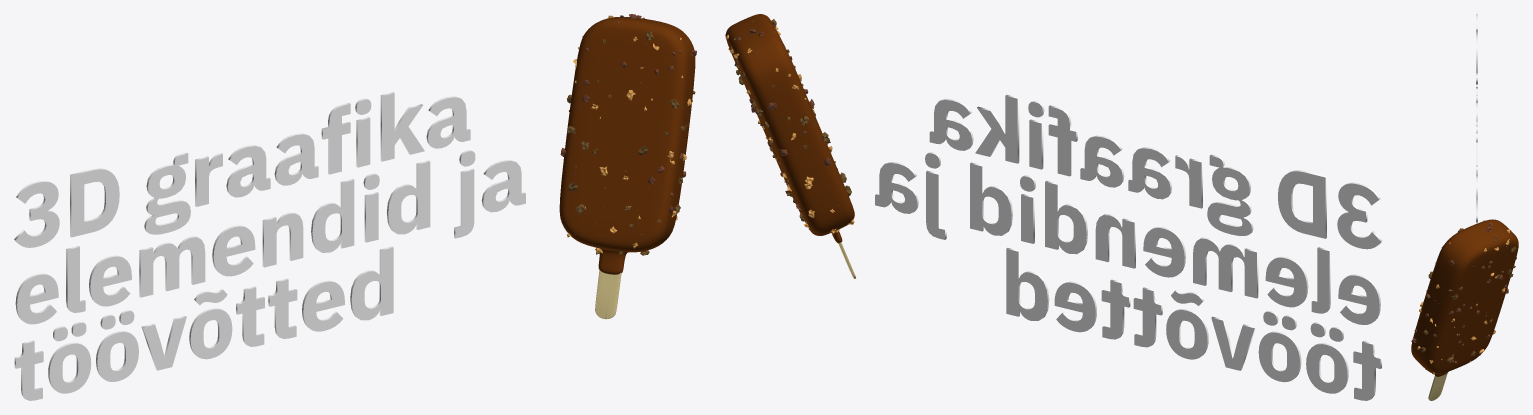
File: j22tis_txt.glb
The picture shows the model from 3 angles, left to right: view 1: azimuth 30°, elevation 25°; view 2: azimuth 150°, elevation 25°; view 3: azimuth 270°, elevation 25°; orthographic projection. The views are drawn at different scales.
Visible parts, largest first — view 1: Text, Glasuur, Pulk; view 2: Text, Glasuur; view 3: Glasuur, Text, Pulk.
Boxes of the visible parts, left/top/right/bottom form: Text: left=14, top=92, right=525, bottom=400; Glasuur: left=559, top=17, right=695, bottom=274; Pulk: left=595, top=269, right=621, bottom=319; Text: left=875, top=95, right=1382, bottom=400; Glasuur: left=725, top=14, right=854, bottom=243; Glasuur: left=1411, top=219, right=1518, bottom=376; Text: left=1476, top=14, right=1477, bottom=223; Pulk: left=1428, top=373, right=1447, bottom=400.
Bounding box in the file's own units: 0.3368 × 0.1264 × 0.0624.
